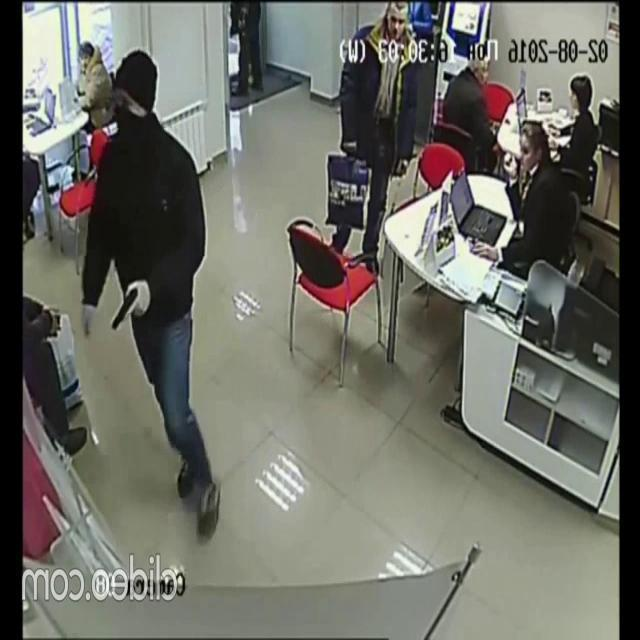pistol: (109, 284, 139, 334)
